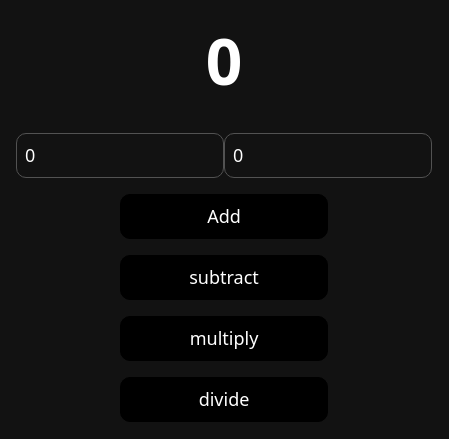
it: Calculator › subtracts to number
This screenshot has width=449, height=439.
Replace the text in the number field with test id "num1" with "5". click: (120, 155)
box: [16,132,224,178]
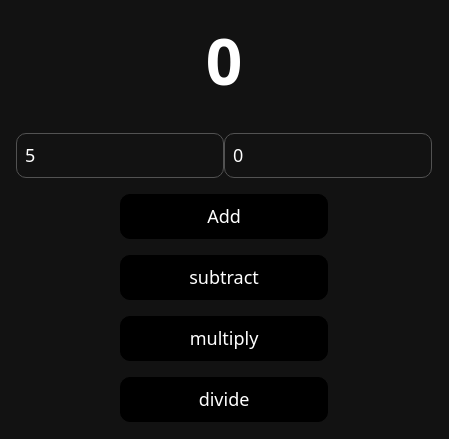
Replace the text in the number field with test id "num2" with "8". click: (328, 155)
box: [224,132,432,178]
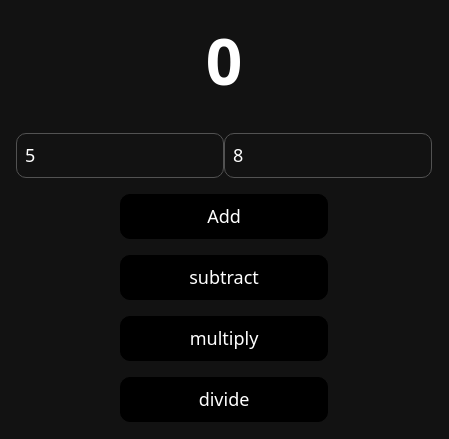
Click the button with test id "subtract". click: (224, 277)
box: [120,254,328,300]
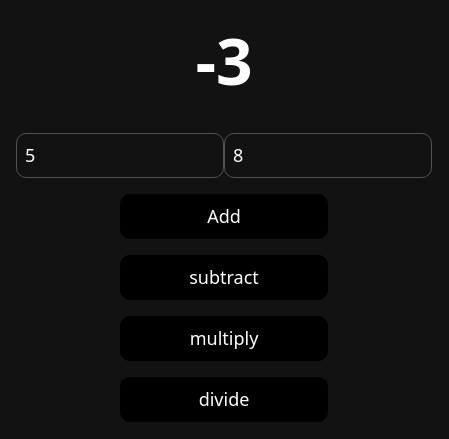
Now the text with test id "result" reads "-3", box [195,16,253,104]
